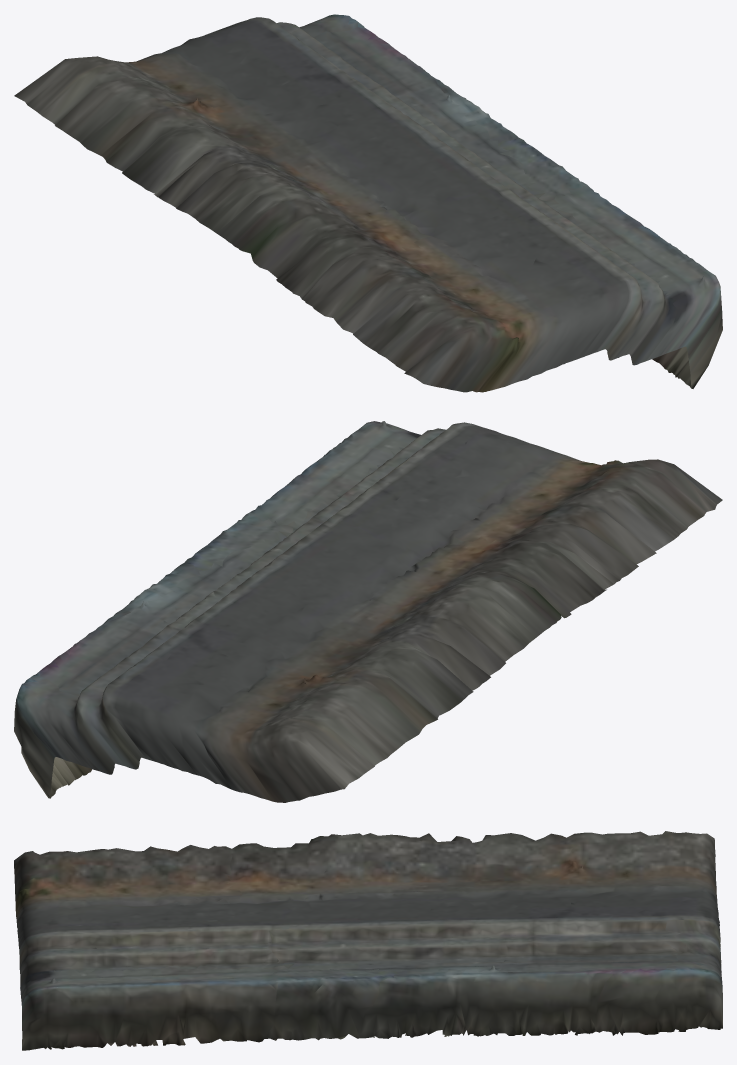
Rendered from run4_p1_c2.glb.
3 views of the same model, one above another, from view 1: azimuth 30°, elevation 25°; view 2: azimuth 150°, elevation 25°; view 3: azimuth 270°, elevation 25° (orthographic). The views are drawn at different scales.
Visible parts, largest first — view 1: run4_p1_straight_c2; view 2: run4_p1_straight_c2; view 3: run4_p1_straight_c2.
Part boxes in pixels (<box>): run4_p1_straight_c2: <box>14,14,722,392</box>; run4_p1_straight_c2: <box>14,421,722,802</box>; run4_p1_straight_c2: <box>14,831,722,1050</box>.
Bounding box in the file's own units: 10.24 × 3.47 × 20.22.
Materials: 1 (1 with a texture image).
